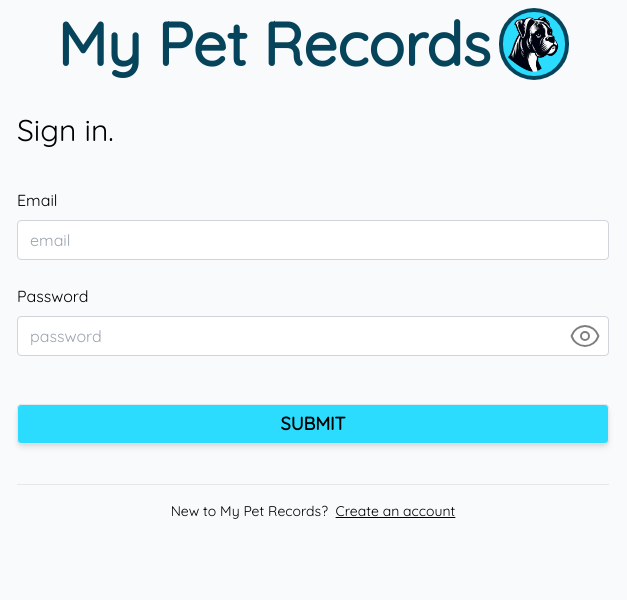
Test case: SigninPage › shows validation errors when the form is submitted empty
Click the submit button. click: (313, 425)
box: [17,404,609,445]
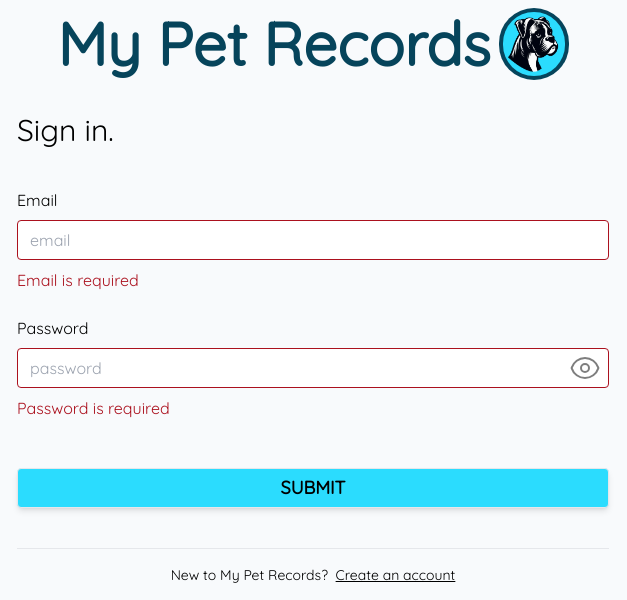
Expected: the text "Email is required" is shown, [17,270,139,290]
Expected: the text "Password is required" is shown, [17,398,170,418]
